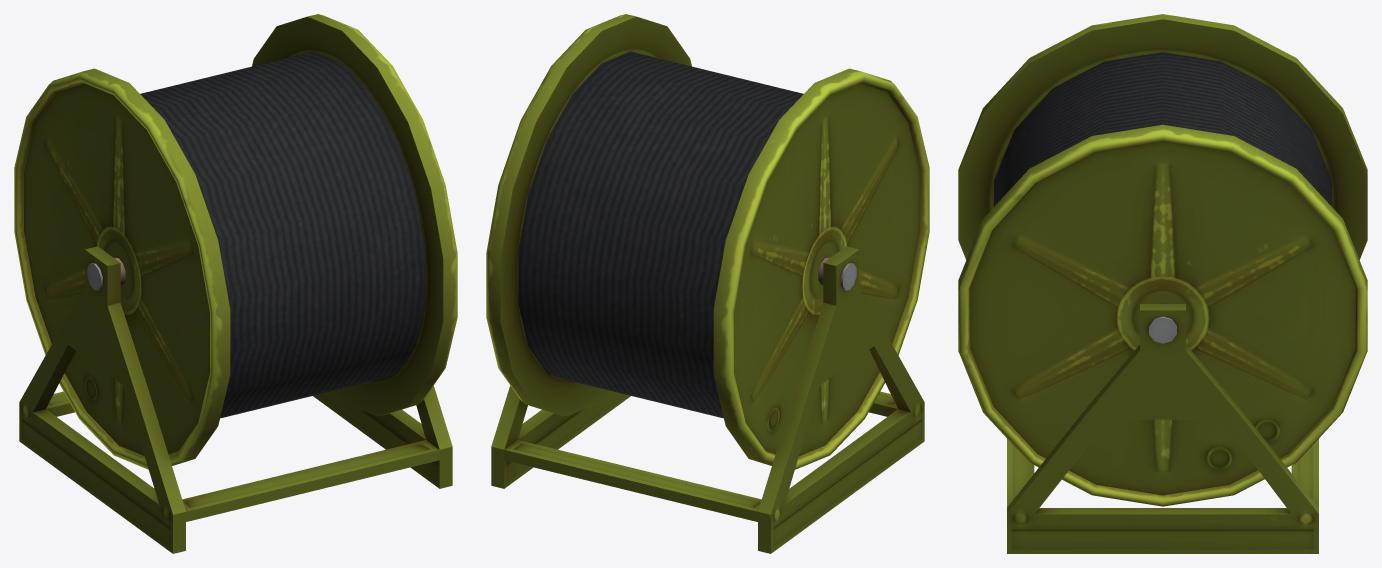
File: CableReel01_1.FBX
3 views of the same model, side by side, from view 1: azimuth 30°, elevation 25°; view 2: azimuth 150°, elevation 25°; view 3: azimuth 270°, elevation 25° (orthographic).
Parts seen in each view (by area): view 1: CableReel01_1; view 2: CableReel01_1; view 3: CableReel01_1.
Boxes of the visible parts, bbox=[...] form: CableReel01_1: bbox=[14, 14, 457, 553]; CableReel01_1: bbox=[486, 14, 929, 553]; CableReel01_1: bbox=[958, 14, 1367, 553].
Size of what is drawn, in the model's own units: 1.2 by 1.64 by 1.48.
